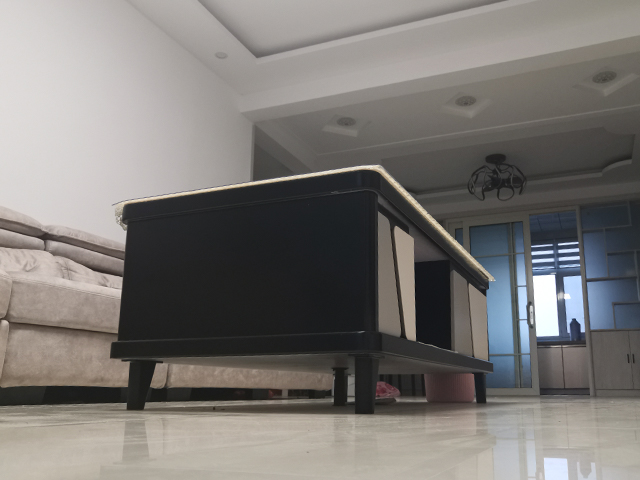cabinet: (571, 192, 640, 399), (534, 339, 588, 396)
sofa: (1, 200, 128, 410)
table: (107, 161, 497, 416)
